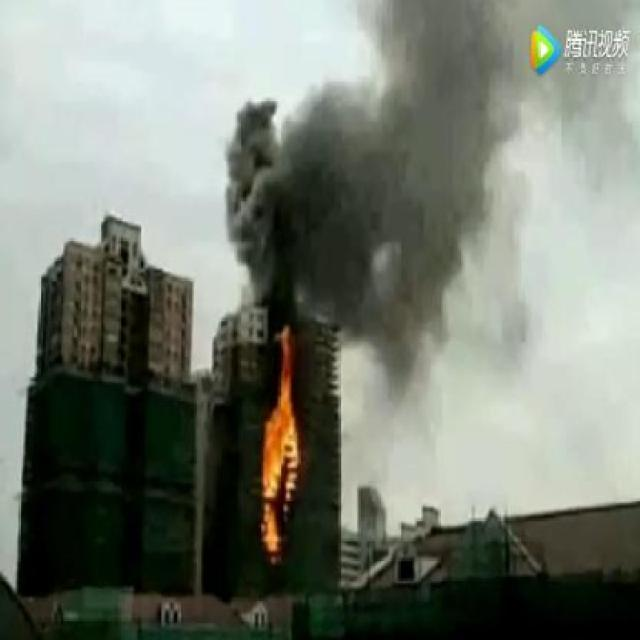Fire: (260, 314, 306, 569)
Smoke: (191, 11, 502, 334)
